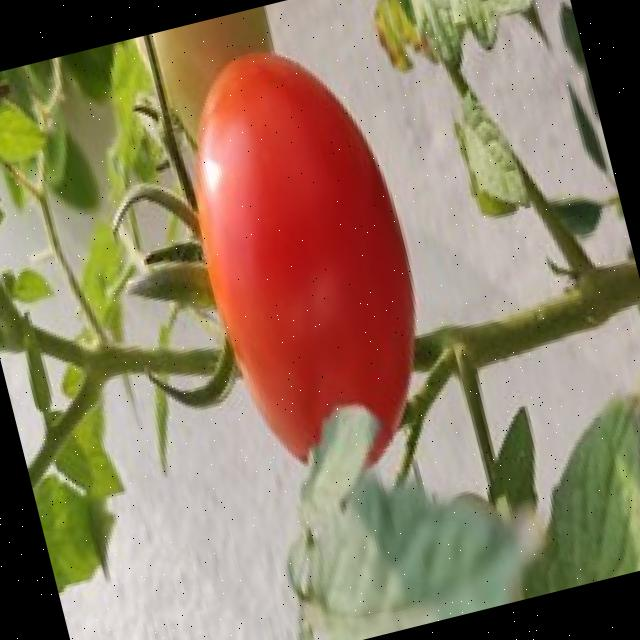tomato: (195, 51, 413, 462)
